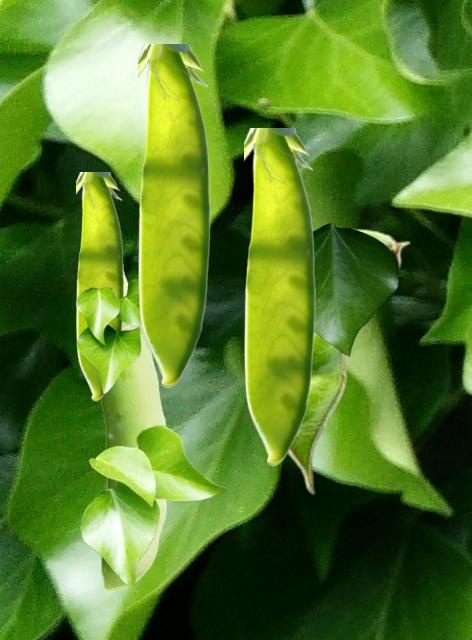pea: (287, 228, 410, 494), (138, 44, 210, 387), (244, 128, 315, 465), (98, 264, 166, 591), (76, 172, 123, 400)
